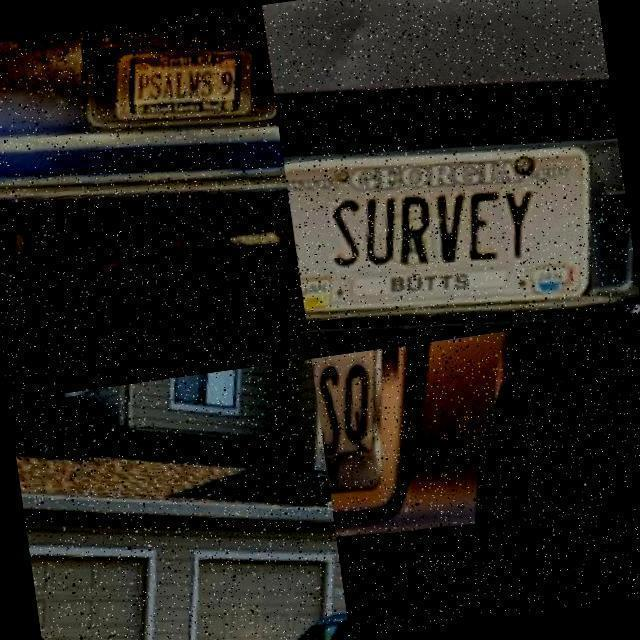license-plate: (293, 161, 595, 296)
